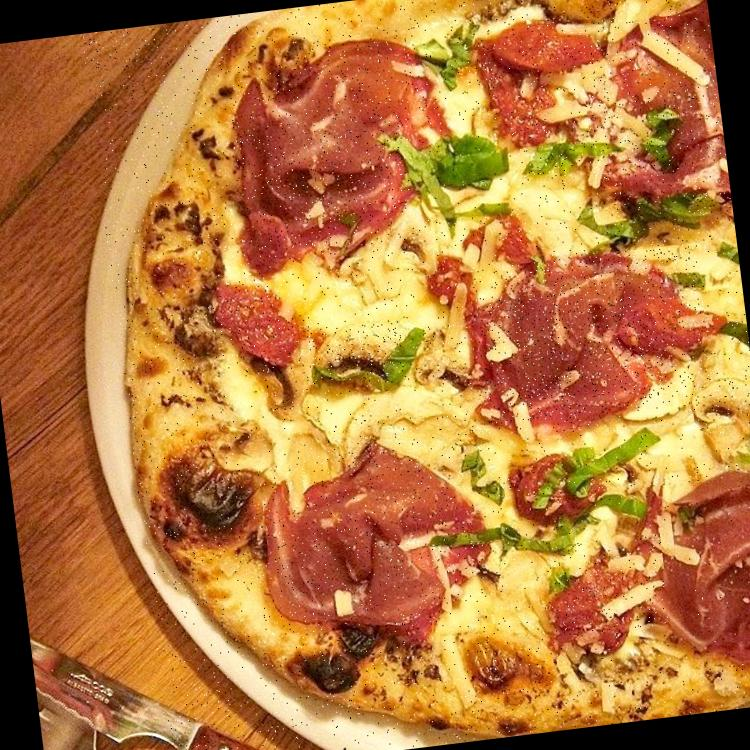Arugula: (403, 115, 516, 224), (501, 444, 605, 522), (524, 138, 610, 176)
Ham: (219, 24, 456, 256), (258, 442, 490, 637), (474, 243, 715, 425), (554, 472, 750, 682)
Mushroom: (577, 11, 731, 216), (306, 318, 406, 384)
Pizza: (81, 0, 750, 750)
Tomatoes: (542, 532, 672, 640), (210, 269, 308, 378), (473, 18, 604, 88), (690, 373, 750, 431)
